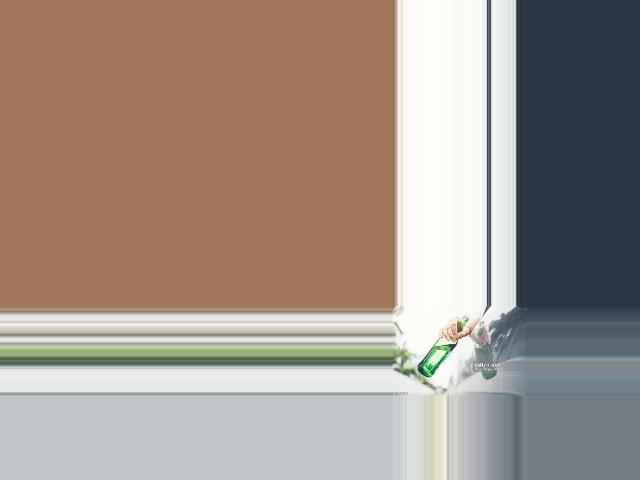beer: (418, 316, 470, 378)
